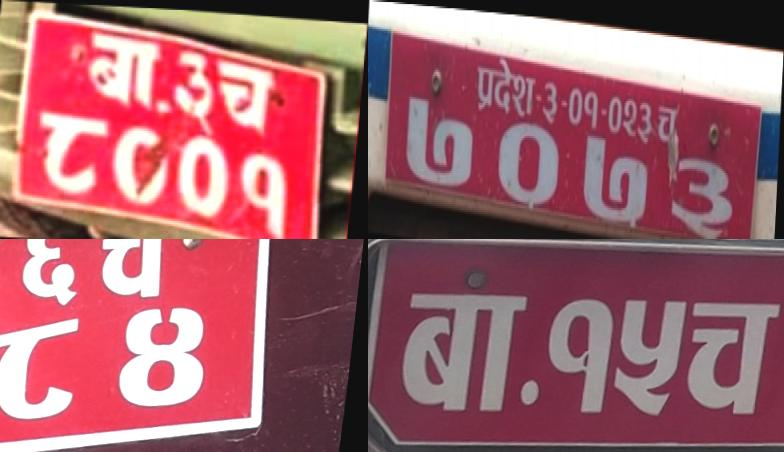0: (32, 106, 113, 196), (495, 111, 564, 206), (607, 88, 624, 134), (567, 78, 584, 123)
1: (542, 284, 623, 420), (581, 80, 602, 127)
2: (622, 89, 640, 135)
3: (668, 142, 739, 239), (540, 75, 562, 124), (636, 91, 654, 142)
4: (113, 296, 221, 413), (235, 148, 304, 239)
5: (611, 286, 692, 419)
6: (16, 239, 93, 308)
7: (404, 86, 478, 194), (580, 124, 654, 224), (107, 120, 176, 207), (173, 131, 237, 222)
8: (0, 307, 94, 424)
ba: (392, 281, 539, 426), (80, 27, 168, 115)
cha: (678, 286, 784, 422), (88, 239, 180, 299), (168, 46, 221, 128), (656, 91, 680, 145)
lu: (210, 54, 282, 136)
